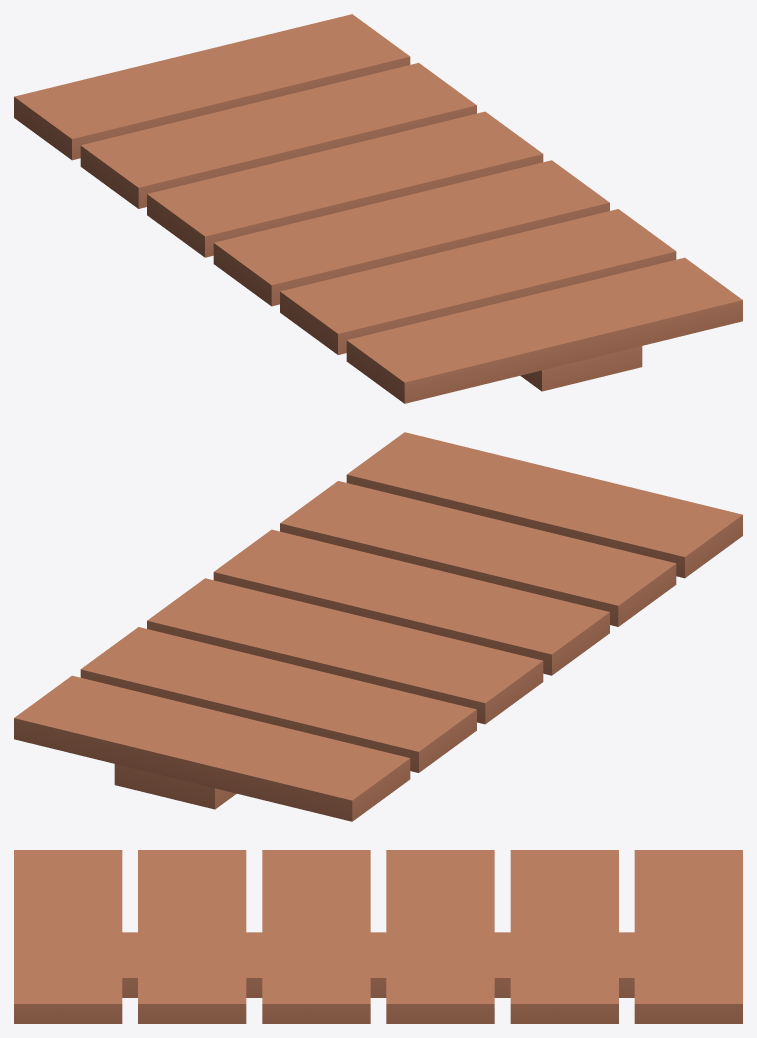
Rendered from planks-half.glb.
3 renders of one model, top to bottom at view 1: azimuth 30°, elevation 25°; view 2: azimuth 150°, elevation 25°; view 3: azimuth 270°, elevation 25°, orthographic. The views are drawn at different scales.
Visible parts, largest first — view 1: planks-half; view 2: planks-half; view 3: planks-half.
Boxes of the visible parts, box(x1,y1,x2,y2) form: planks-half: box(14, 14, 742, 403); planks-half: box(14, 432, 742, 821); planks-half: box(14, 850, 742, 1023).
Size of the model in its own units: 0.5001 by 0.0599 by 1.
1 material, 1 textured.
